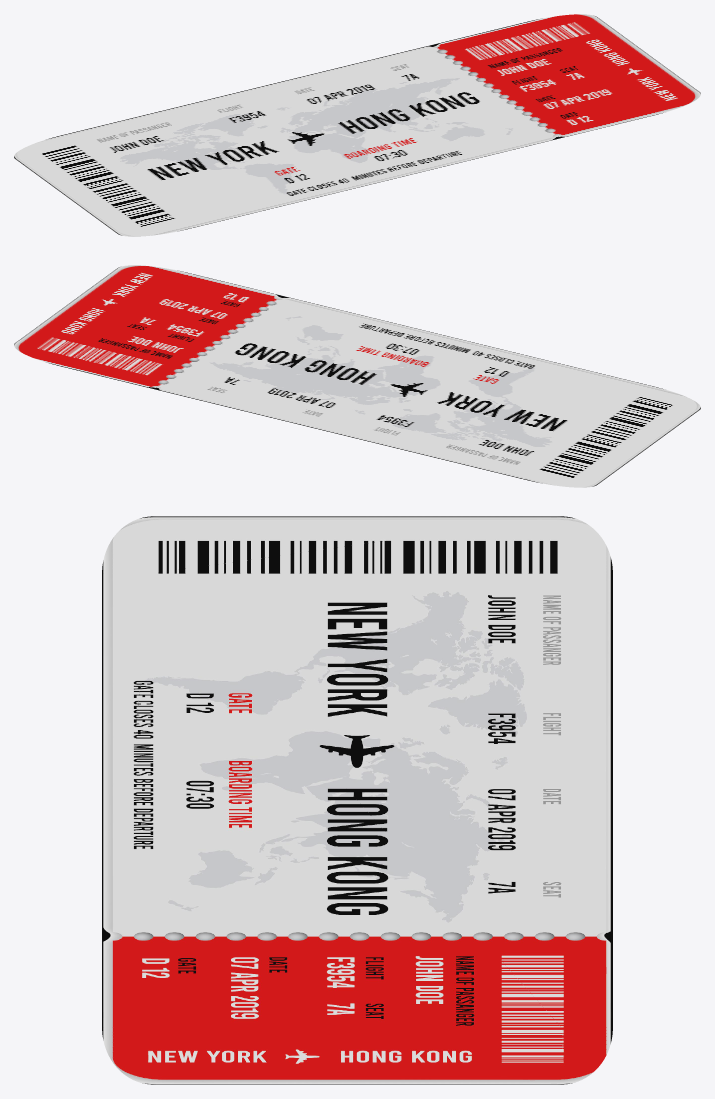
The model's file is ticket.glb.
The picture shows the model from 3 angles, top to bottom: view 1: azimuth 30°, elevation 25°; view 2: azimuth 150°, elevation 25°; view 3: azimuth 270°, elevation 25°; orthographic projection. The views are drawn at different scales.
Parts seen in each view (by area): view 1: Plane; view 2: Plane; view 3: Plane.
Part boxes in pixels (x1,y1,x2,y2): Plane: (14, 14, 700, 236); Plane: (14, 265, 700, 487); Plane: (102, 516, 612, 1084).
Size of the model in its own units: 2 by 0 by 0.76.
Materials: 1 (1 with a texture image).
